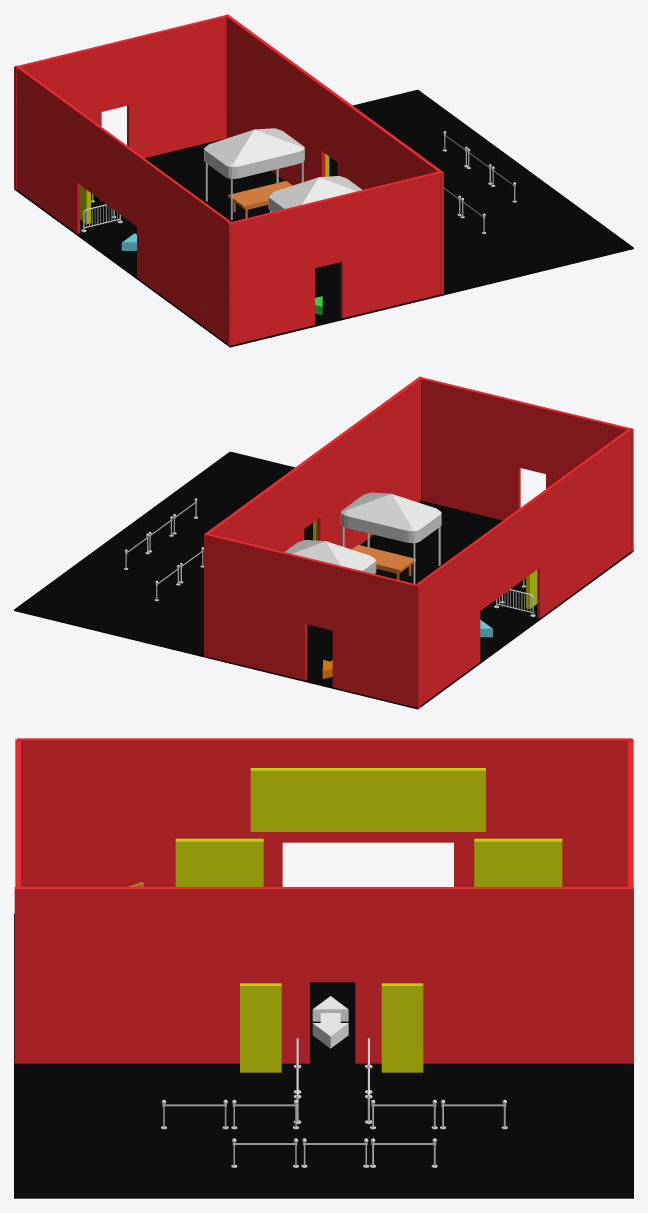
File: FBX Hub Area_CLEAN.fbx
The picture shows the model from 3 angles, top to bottom: view 1: azimuth 30°, elevation 25°; view 2: azimuth 150°, elevation 25°; view 3: azimuth 270°, elevation 25°; orthographic projection. The views are drawn at different scales.
Visible parts, largest first — view 1: Floor, Wall 2, Wall 1, Wall 4, Wall 3, Ticket Booth 1.001, Ticket Booth 1, Ticket Desk 2.001; view 2: Floor, Wall 4, Wall 1, Wall 2, Wall 3, Ticket Booth 1, Ticket Booth 1.001, Ticket Desk 2; view 3: Wall 3, Floor, Wall 1, Big CF Sign, Indoor Poster 1, Indoor Poster 2, Outdoor Poster 2, Outdoor Poster 1, Wall 2, Wall 4, To Exit.
Boxes of the visible parts, x1=… form: Floor: x1=14, y1=89, x2=633, y2=347; Wall 2: x1=227, y1=170, x2=443, y2=346; Wall 1: x1=15, y1=65, x2=231, y2=343; Wall 4: x1=14, y1=15, x2=226, y2=189; Wall 3: x1=225, y1=14, x2=443, y2=294; Ticket Booth 1.001: x1=204, y1=128, x2=304, y2=219; Ticket Booth 1: x1=268, y1=176, x2=361, y2=212; Ticket Desk 2.001: x1=228, y1=181, x2=292, y2=218; Floor: x1=14, y1=451, x2=633, y2=709; Wall 4: x1=204, y1=534, x2=420, y2=708; Wall 1: x1=415, y1=428, x2=632, y2=705; Wall 2: x1=418, y1=376, x2=633, y2=552; Wall 3: x1=204, y1=376, x2=422, y2=657; Ticket Booth 1: x1=340, y1=492, x2=441, y2=583; Ticket Booth 1.001: x1=285, y1=540, x2=376, y2=573; Ticket Desk 2: x1=351, y1=544, x2=415, y2=579; Wall 3: x1=14, y1=887, x2=633, y2=1063; Floor: x1=14, y1=913, x2=633, y2=1198; Wall 1: x1=17, y1=738, x2=632, y2=886; Big CF Sign: x1=250, y1=768, x2=485, y2=831; Indoor Poster 1: x1=175, y1=838, x2=263, y2=886; Indoor Poster 2: x1=474, y1=838, x2=562, y2=886; Outdoor Poster 2: x1=381, y1=983, x2=423, y2=1072; Outdoor Poster 1: x1=240, y1=983, x2=281, y2=1072; Wall 2: x1=15, y1=739, x2=20, y2=1063; Wall 4: x1=628, y1=739, x2=633, y2=1063; To Exit: x1=312, y1=996, x2=348, y2=1048.
Bounding box in the file's own units: 2125 × 622 × 1967.
